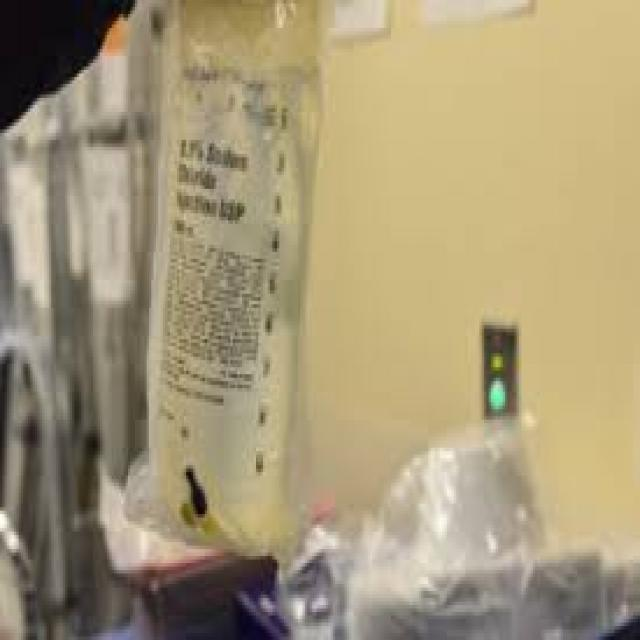iv_fluids: (127, 29, 350, 517)
